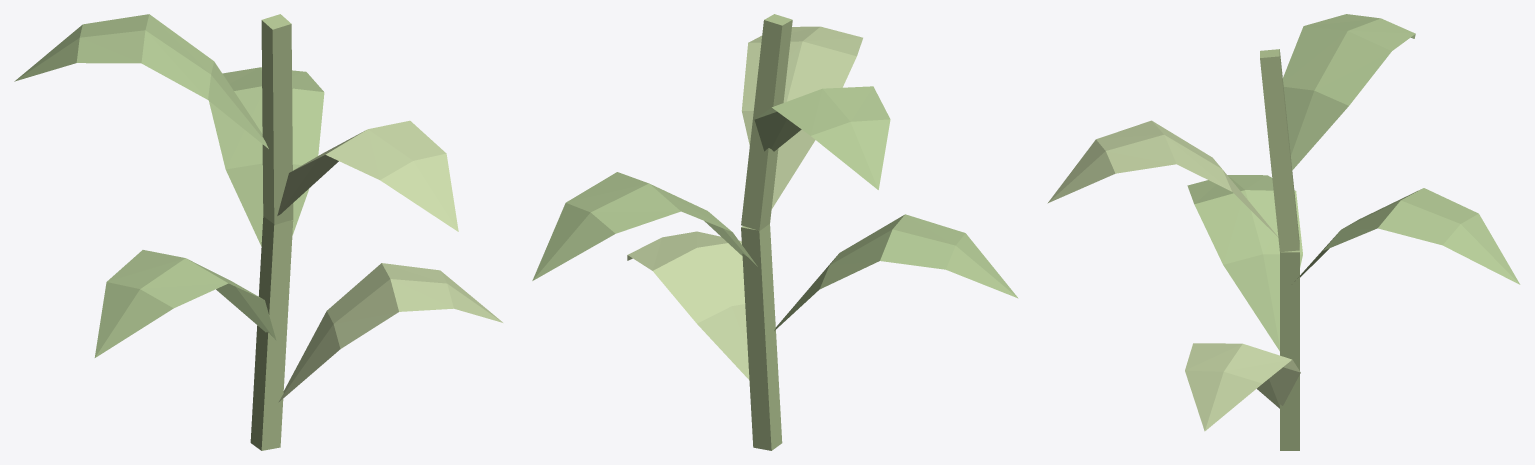
File: crafted-crop-corn-1.glb
3 renders of one model, left to right at view 1: azimuth 30°, elevation 25°; view 2: azimuth 150°, elevation 25°; view 3: azimuth 270°, elevation 25°, orthographic. The views are drawn at different scales.
Parts seen in each view (by area): view 1: corn-leaf-4, corn-leaf-3, corn-leaf-0, corn-leaf-1, corn-leaf-2, stalk-0, stalk-1; view 2: corn-leaf-0, corn-leaf-4, corn-leaf-2, corn-leaf-1, corn-leaf-3, stalk-0, stalk-1; view 3: corn-leaf-4, corn-leaf-1, corn-leaf-2, corn-leaf-0, corn-leaf-3, stalk-1, stalk-0.
Part boxes in pixels (bbox=[...]): corn-leaf-4: bbox=[14, 14, 268, 148]; corn-leaf-3: bbox=[277, 120, 458, 231]; corn-leaf-0: bbox=[278, 263, 502, 402]; corn-leaf-1: bbox=[94, 250, 276, 357]; corn-leaf-2: bbox=[209, 67, 324, 246]; stalk-0: bbox=[250, 216, 293, 450]; stalk-1: bbox=[261, 14, 293, 224]; corn-leaf-0: bbox=[627, 231, 749, 379]; corn-leaf-4: bbox=[754, 86, 890, 189]; corn-leaf-2: bbox=[532, 172, 757, 280]; corn-leaf-1: bbox=[774, 214, 1018, 330]; corn-leaf-3: bbox=[741, 26, 862, 208]; stalk-0: bbox=[741, 224, 782, 450]; stalk-1: bbox=[741, 14, 792, 230]; corn-leaf-4: bbox=[1283, 14, 1415, 170]; corn-leaf-1: bbox=[1187, 175, 1302, 351]; corn-leaf-2: bbox=[1294, 188, 1520, 284]; corn-leaf-0: bbox=[1185, 343, 1300, 431]; corn-leaf-3: bbox=[1047, 120, 1277, 236]; stalk-1: bbox=[1260, 49, 1299, 252]; stalk-0: bbox=[1280, 243, 1299, 450].
Size of the model in its own units: 0.3848 by 0.392 by 0.4262.
